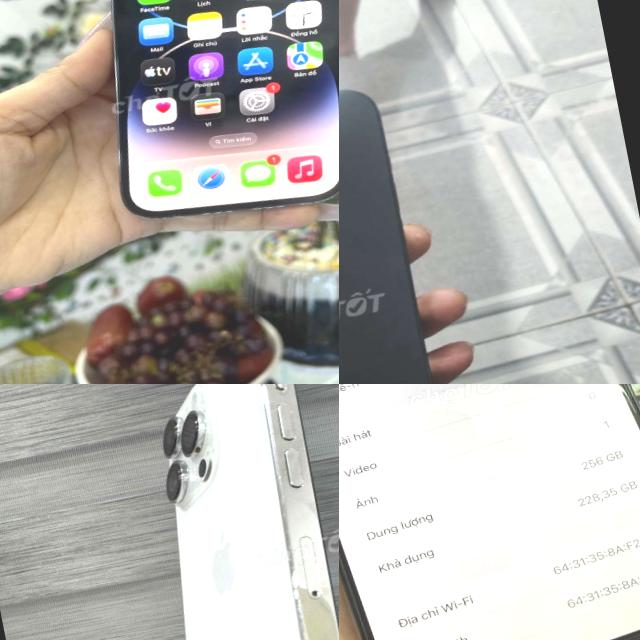gen_14: (50, 0, 339, 254), (88, 384, 339, 640), (339, 66, 467, 384)
gen_17: (339, 384, 640, 640)
